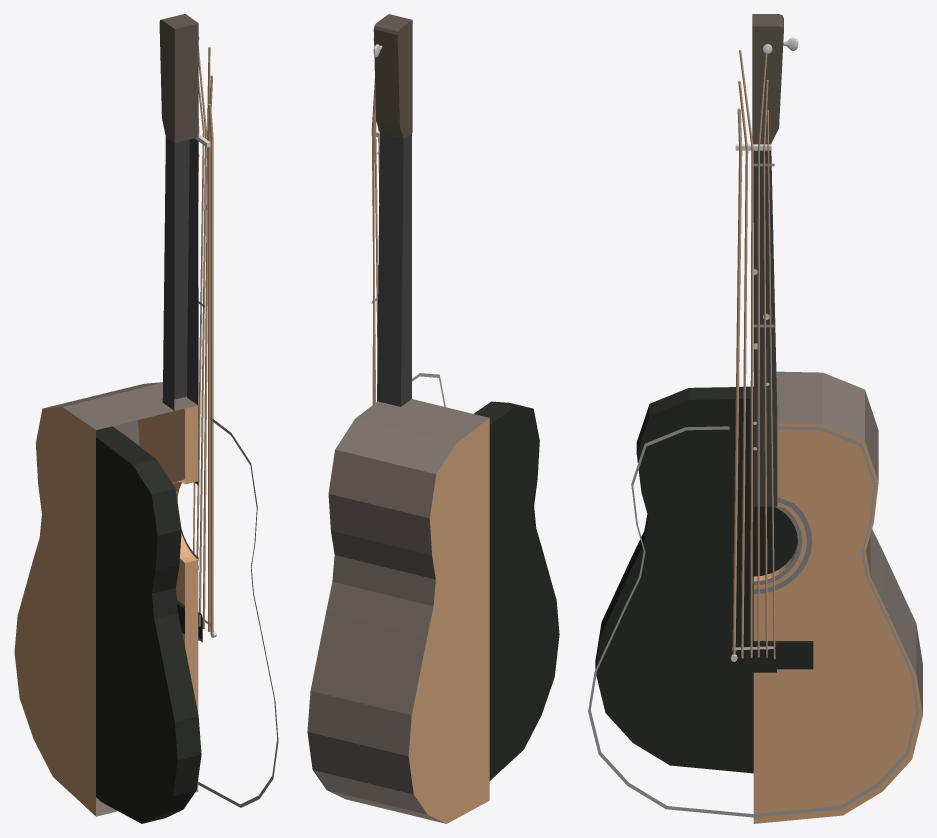
File: guitar.glb
3 renders of one model, left to right at view 1: azimuth 30°, elevation 25°; view 2: azimuth 150°, elevation 25°; view 3: azimuth 270°, elevation 25°, orthographic. The views are drawn at different scales.
Visible parts, largest first — view 1: 円.013, 円.012, 円.015, 円.011, 円.001, 円柱.002, 円柱.003, 円柱.005, 円柱.004, 円柱.006, 円.014; view 2: 円.015, 円.012, 円.013, 円.011, 円.001, 円柱.007, 円柱.005; view 3: 円.015, 円.013, 円.011, 円.001, 円.014, 円柱.002, 円柱.003, 円柱.004, 円柱.005, 円柱.006, 円柱.007, Circle.007.
Part boxes in pixels (box(x1,y1,x2,y2)): 円.013: box(96, 426, 201, 823); 円.012: box(14, 407, 95, 815); 円.015: box(43, 382, 198, 816); 円.011: box(162, 137, 198, 485); 円.001: box(159, 14, 202, 642); 円柱.002: box(208, 104, 213, 635); 円柱.003: box(208, 75, 212, 631); 円柱.005: box(198, 46, 206, 626); 円柱.004: box(202, 47, 210, 628); 円柱.006: box(196, 78, 204, 556); 円.014: box(198, 417, 278, 807); 円.015: box(307, 399, 488, 823); 円.012: box(408, 418, 489, 823); 円.013: box(474, 401, 559, 780); 円.011: box(377, 133, 411, 406); 円.001: box(373, 14, 412, 138); 円柱.007: box(372, 95, 375, 404); 円柱.005: box(374, 110, 378, 353); 円.015: box(753, 371, 922, 823); 円.013: box(595, 386, 797, 773); 円.011: box(753, 150, 777, 506); 円.001: box(752, 14, 813, 672); 円.014: box(588, 426, 918, 817); 円柱.002: box(732, 108, 742, 654); 円柱.003: box(738, 80, 748, 658); 円柱.004: box(739, 49, 753, 657); 円柱.005: box(757, 53, 767, 657); 円柱.006: box(763, 80, 768, 657); 円柱.007: box(767, 110, 775, 659); Circle.007: box(754, 497, 811, 594).
Bounding box in the file's own units: 0.5559 × 3.6 × 1.37.
